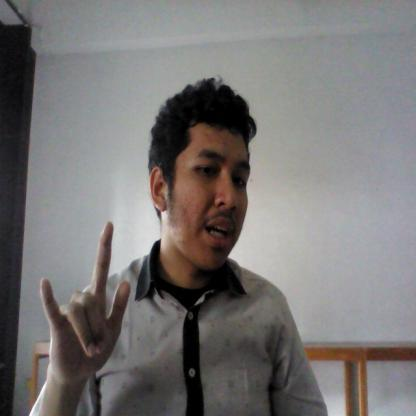ILoveYou: (37, 215, 138, 397)
